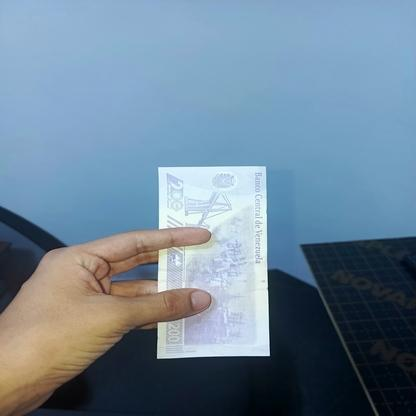two_hundred-back-vef: (156, 166, 270, 360)
